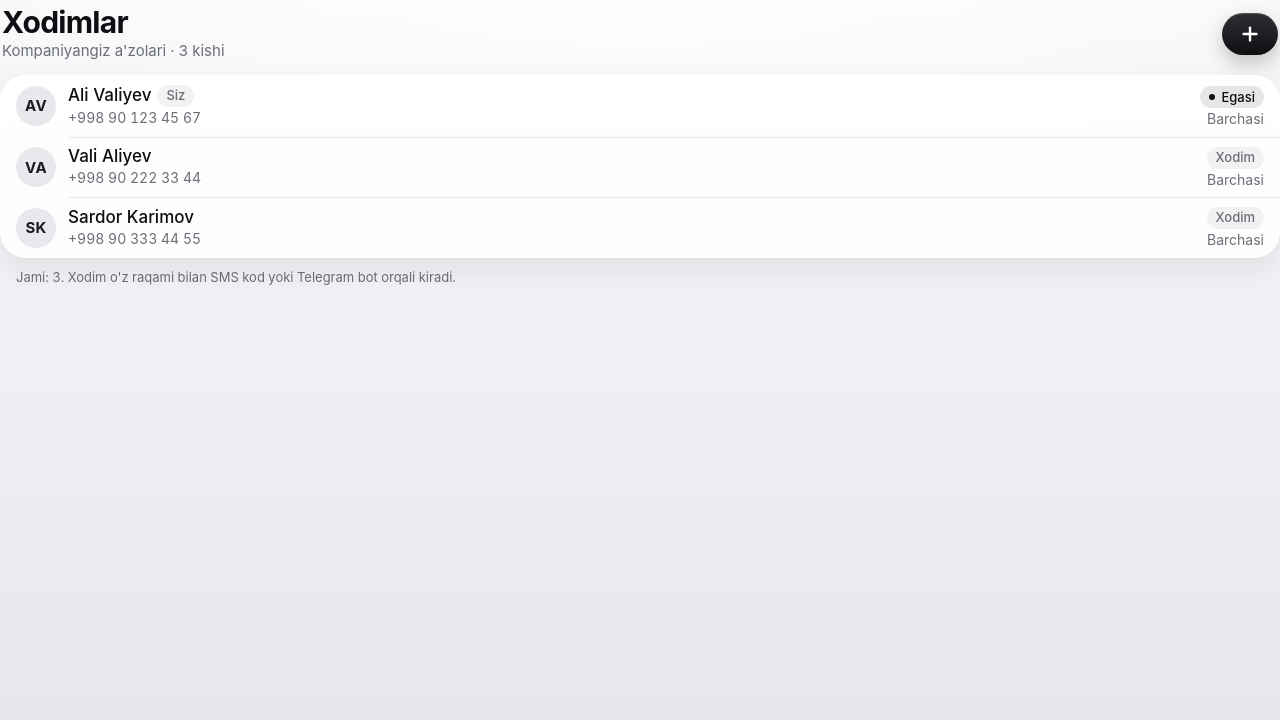
Scenario: the owner restricts an employee from their sheet, and the row says where they work now
Click the button "VA Vali Aliyev +998 90 222 33 44 Xodim Barchasi": (36, 167) [0,137,1279,197]
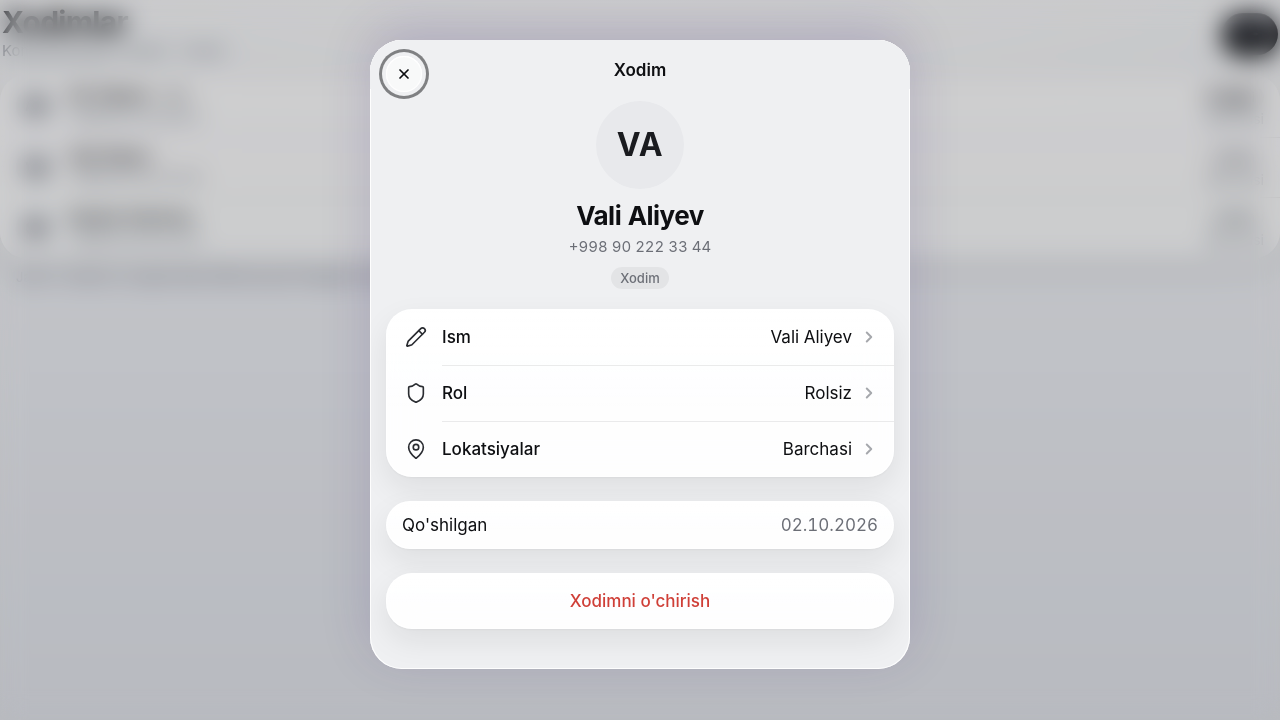
Click the button "Lokatsiyalar Barchasi": (491, 449) [386,421,894,477]
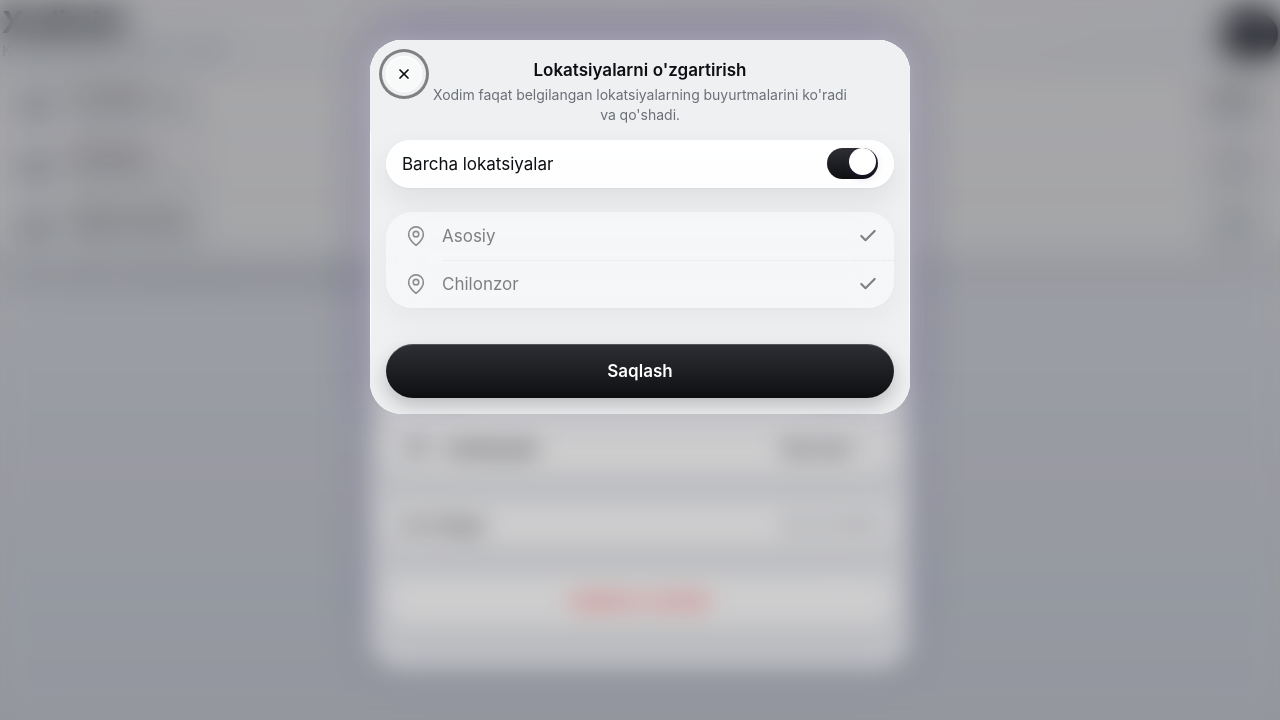
Click the switch named "Barcha lokatsiyalar": (852, 164) [827,148,878,179]
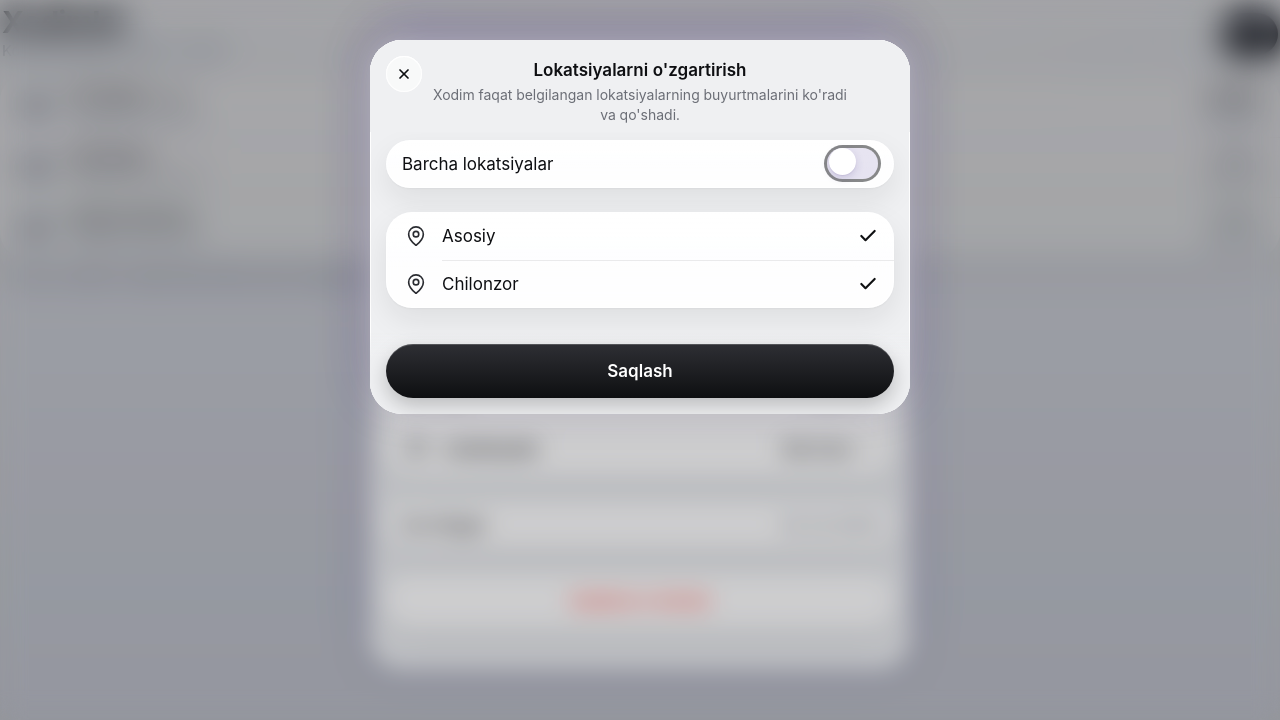
Click the checkbox labelled "Asosiy": (469, 236) [386,212,894,260]
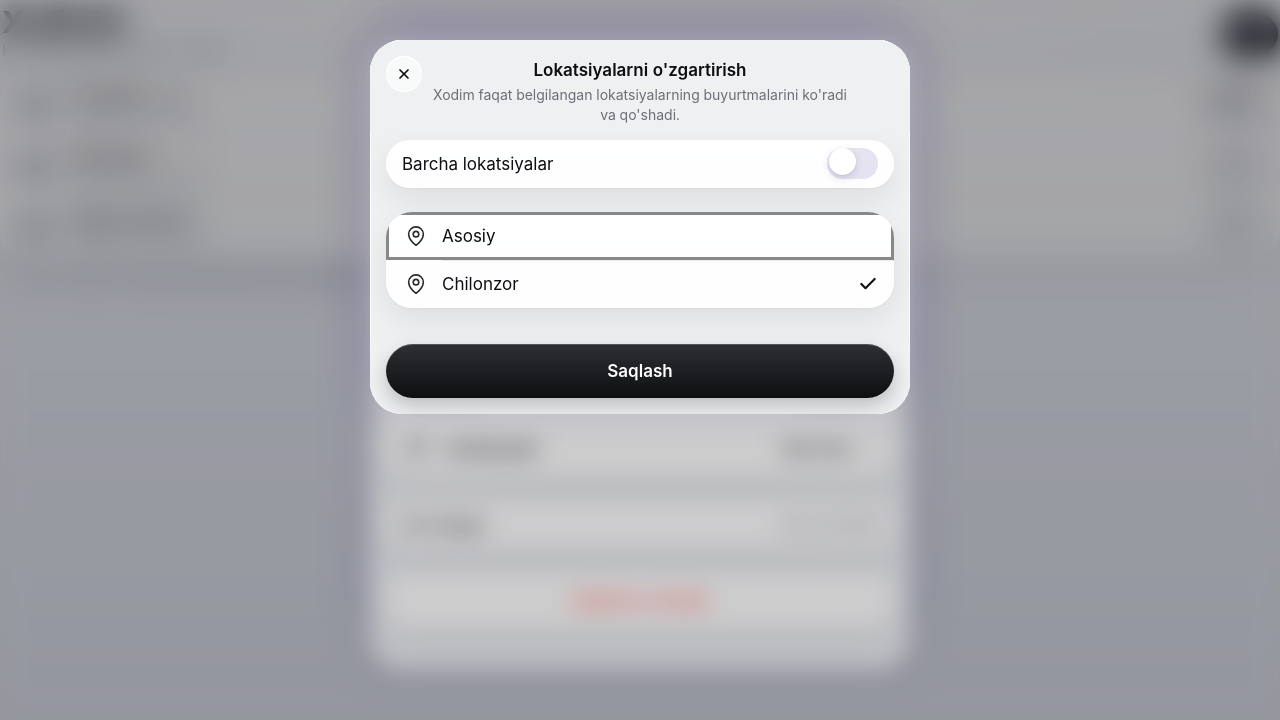
Click the button "Saqlash": (640, 371) [386,344,894,398]
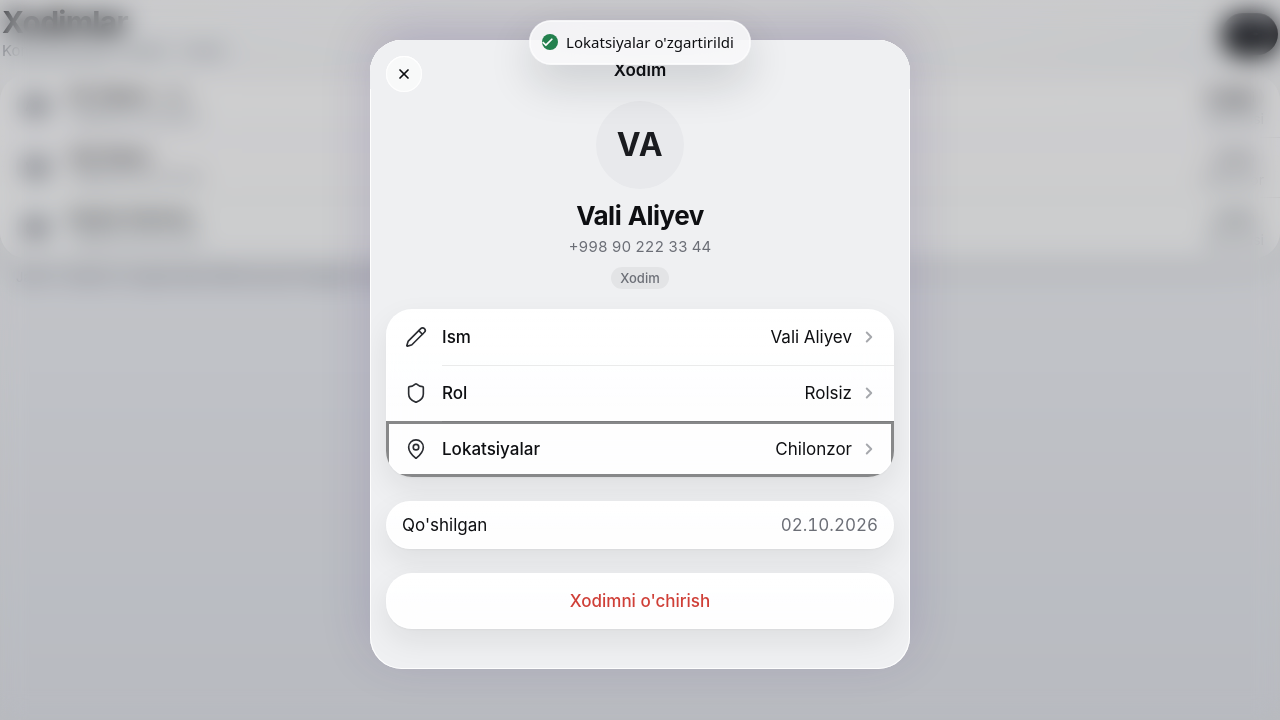
Check: the button "Lokatsiyalar Chilonzor" is shown, box [386,421,894,477]
Press Escape
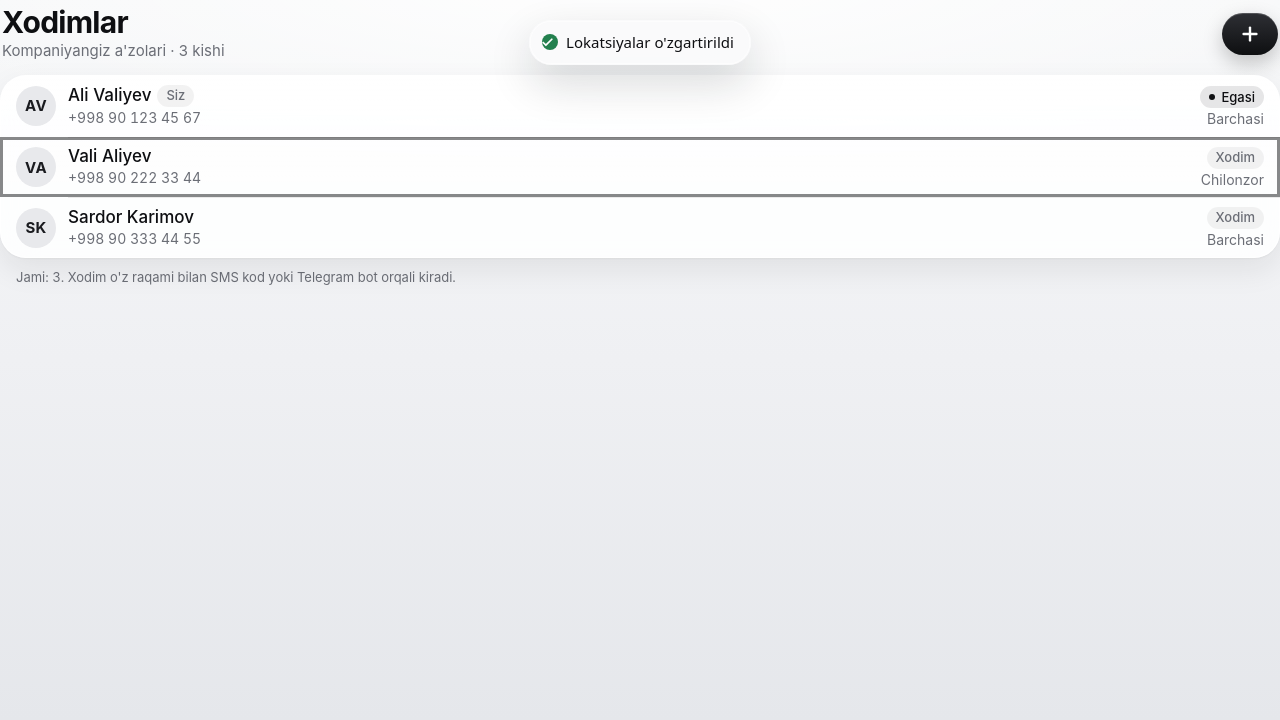
Check: the element showing "Chilonzor" is shown, box [1201,171,1264,190]
Check: the dialog is gone
